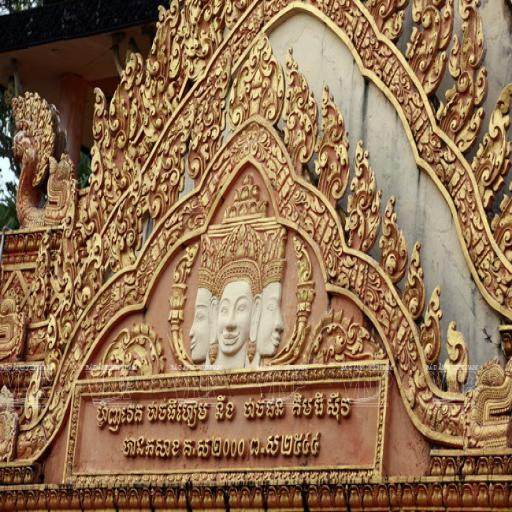la: (438, 0, 489, 143), (182, 54, 233, 192), (84, 316, 173, 387), (467, 74, 512, 194), (276, 43, 316, 174), (302, 302, 377, 368), (312, 75, 348, 211), (230, 37, 280, 132), (348, 135, 385, 256), (107, 42, 150, 146), (406, 0, 452, 94), (147, 112, 187, 215), (144, 1, 182, 105), (44, 274, 75, 372), (112, 176, 144, 269), (89, 82, 111, 192), (376, 192, 405, 275), (72, 231, 104, 306), (399, 242, 429, 321), (442, 323, 470, 396), (418, 287, 444, 365), (363, 0, 406, 44), (23, 368, 47, 426)
lua: (291, 240, 316, 287), (171, 242, 196, 284)
ran: (8, 89, 76, 230)
than: (210, 279, 251, 366), (188, 286, 214, 367), (258, 281, 284, 359)
